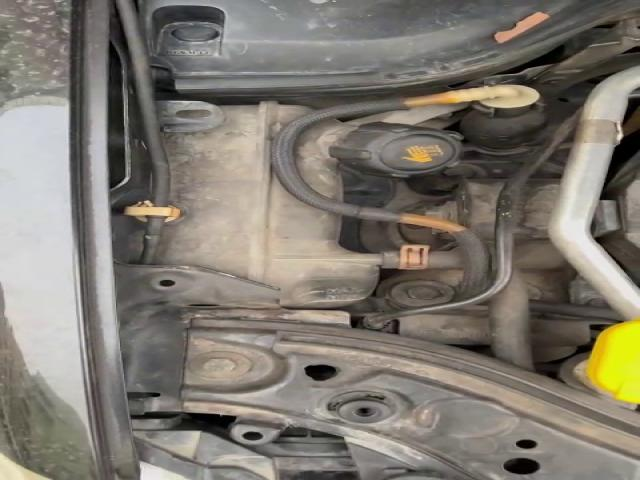antifreeze_tank: (157, 101, 380, 307), (296, 120, 462, 199)
